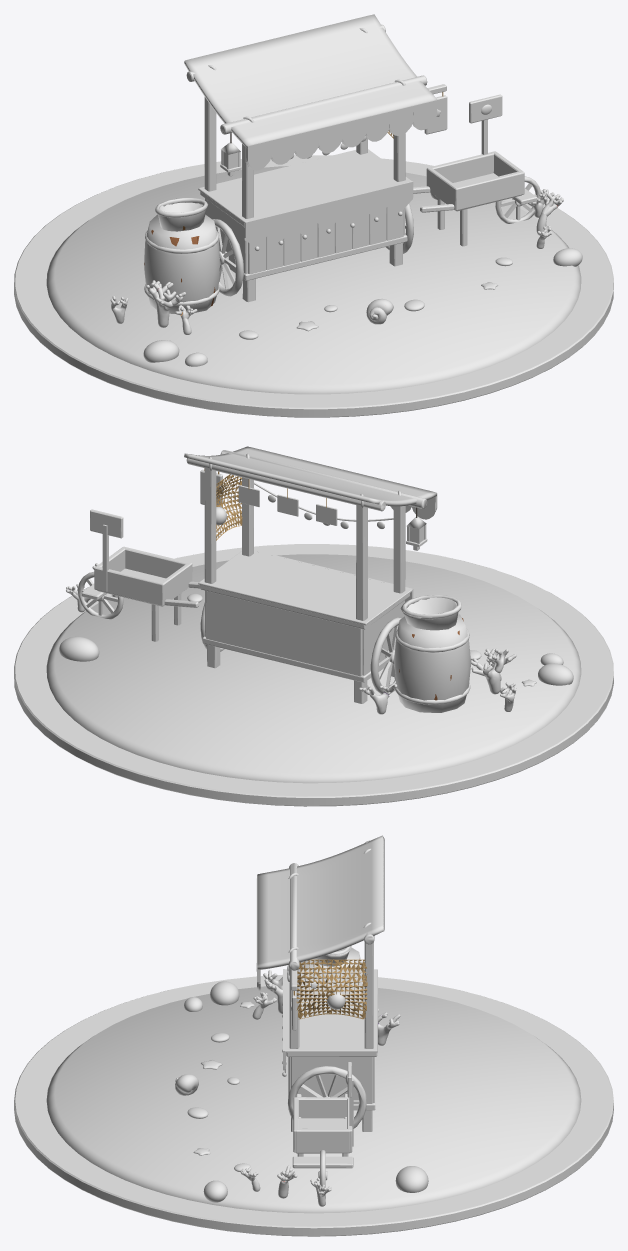
Rendered from Stall.fbx.
3 renders of one model, top to bottom at view 1: azimuth 30°, elevation 25°; view 2: azimuth 150°, elevation 25°; view 3: azimuth 270°, elevation 25°, orthographic.
Visible parts, largest first — view 1: Stall_Base, Stall, Stall_Awning; view 2: Stall_Base, Stall, Stall_Awning; view 3: Stall_Base, Stall, Stall_Awning.
Boxes of the visible parts, x1=… form: Stall_Base: x1=14, y1=155, x2=613, y2=417; Stall: x1=110, y1=24, x2=582, y2=366; Stall_Awning: x1=184, y1=14, x2=437, y2=170; Stall_Base: x1=14, y1=544, x2=613, y2=806; Stall: x1=59, y1=450, x2=573, y2=714; Stall_Awning: x1=184, y1=446, x2=437, y2=519; Stall_Base: x1=14, y1=974, x2=613, y2=1236; Stall: x1=175, y1=840, x2=428, y2=1206; Stall_Awning: x1=256, y1=835, x2=384, y2=990.
Bounding box in the file's own units: 6.72 × 2.83 × 6.72.
